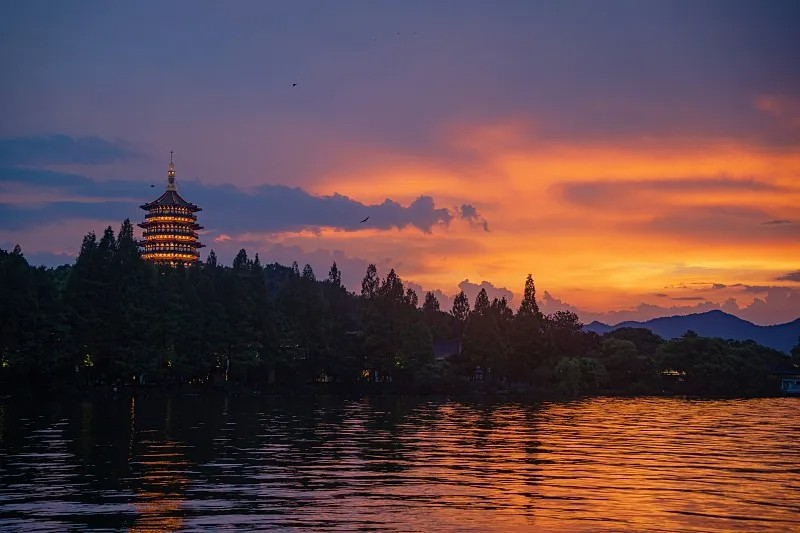Leifeng: (138, 149, 206, 270)
